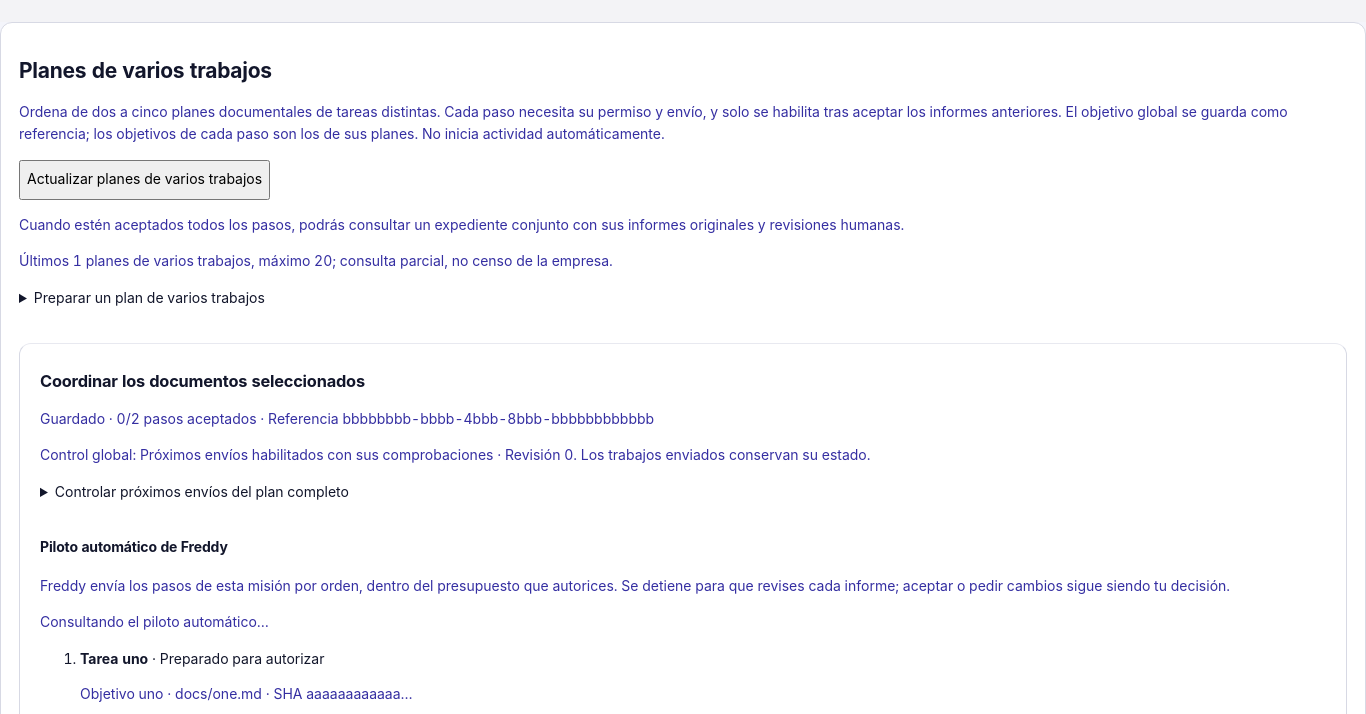
requires explicit global control consent and reads back the exact revision
The image size is (1366, 714).
Step 1. Click the heading "Controlar próximos envíos del plan completo" → (202, 491), box x1=55 y1=483 x2=349 y2=500
(page scrolled)
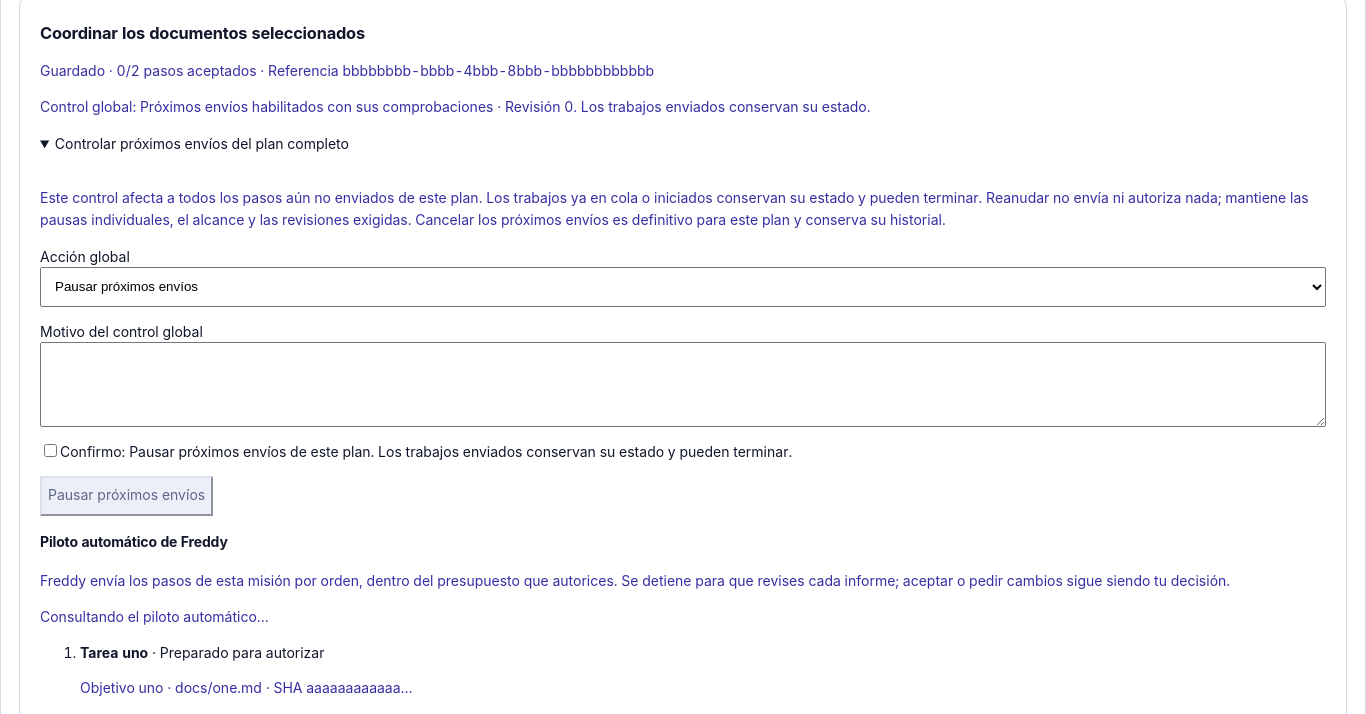
Result: the button "Pausar próximos envíos" is disabled at x1=40 y1=476 x2=213 y2=516
Step 2. Type "Pause future dispatches for review" into the text box labelled "Motivo del control global" → (683, 384), box x1=40 y1=342 x2=1326 y2=426
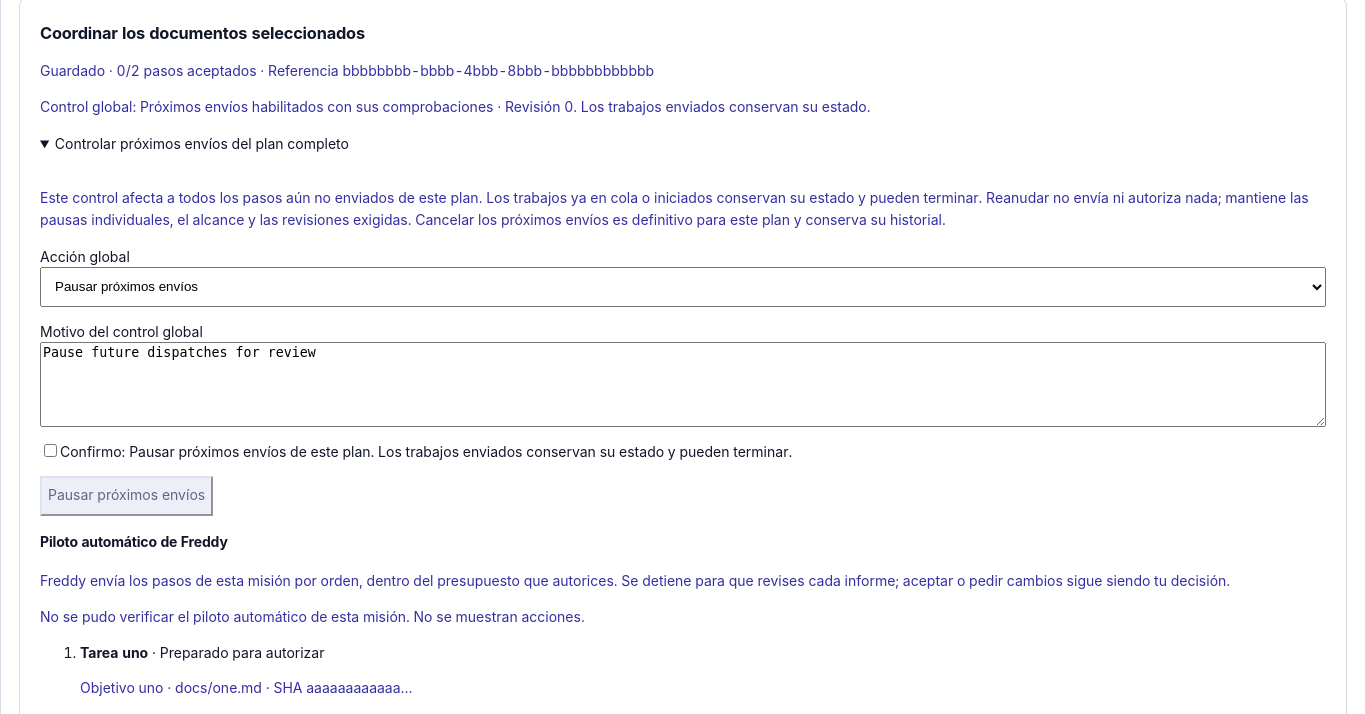
Step 3. Click the checkbox → (50, 450), box x1=44 y1=444 x2=57 y2=456
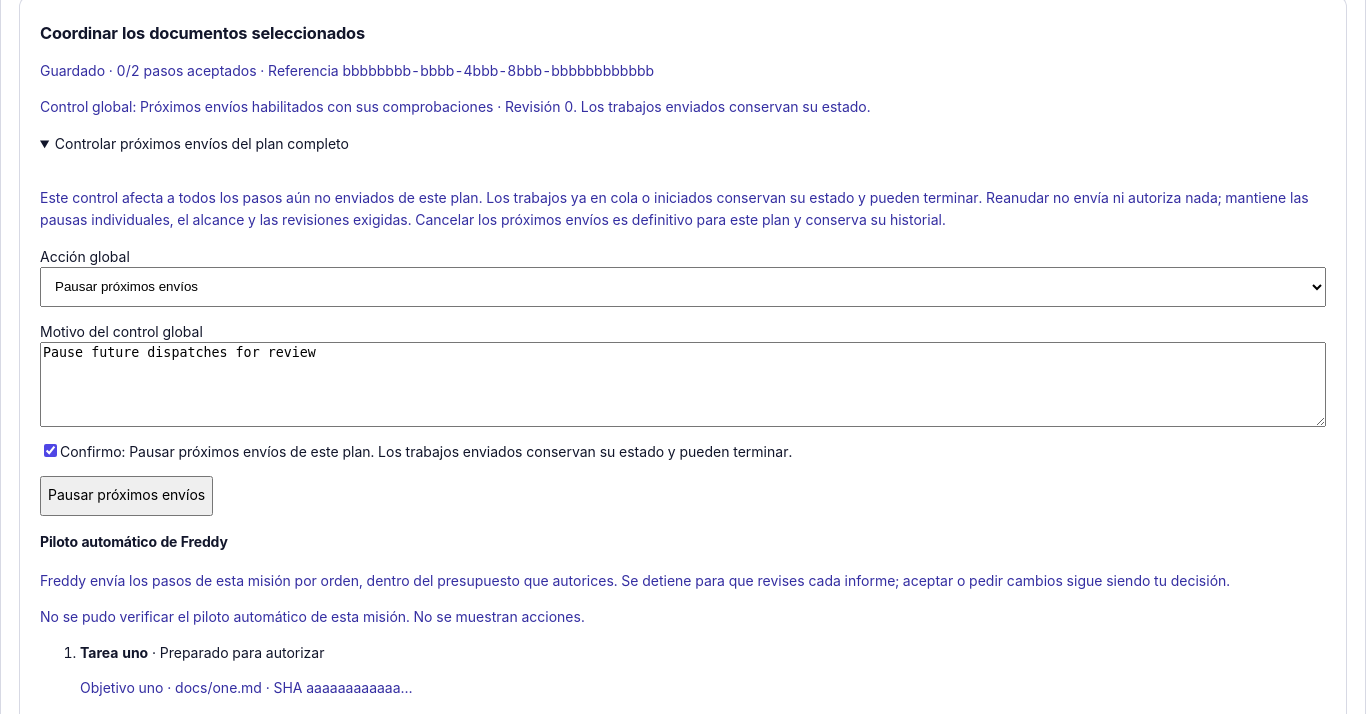
Step 4. Click the button "Pausar próximos envíos" → (127, 496), box x1=40 y1=476 x2=213 y2=516
(page scrolled)
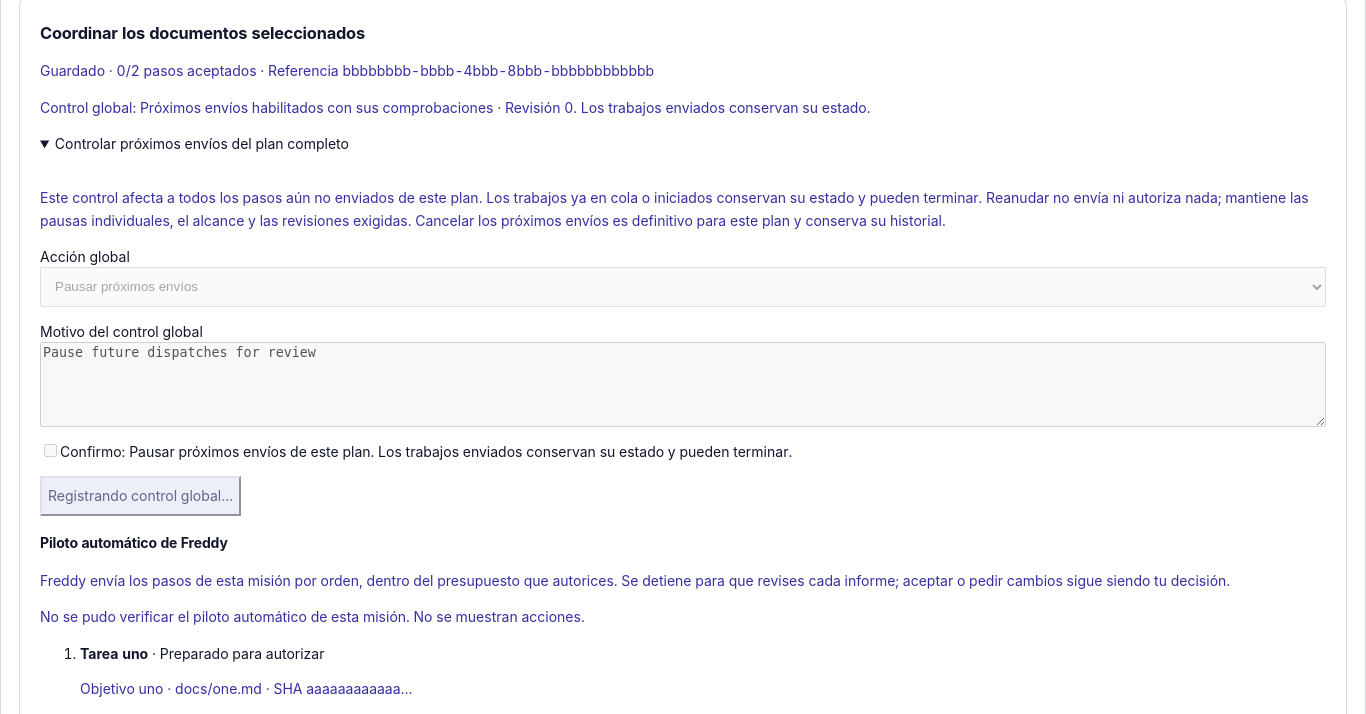
Step 5. Click the button named "Pausar próximos envíos" → (141, 496), box x1=40 y1=476 x2=241 y2=516
(page scrolled)
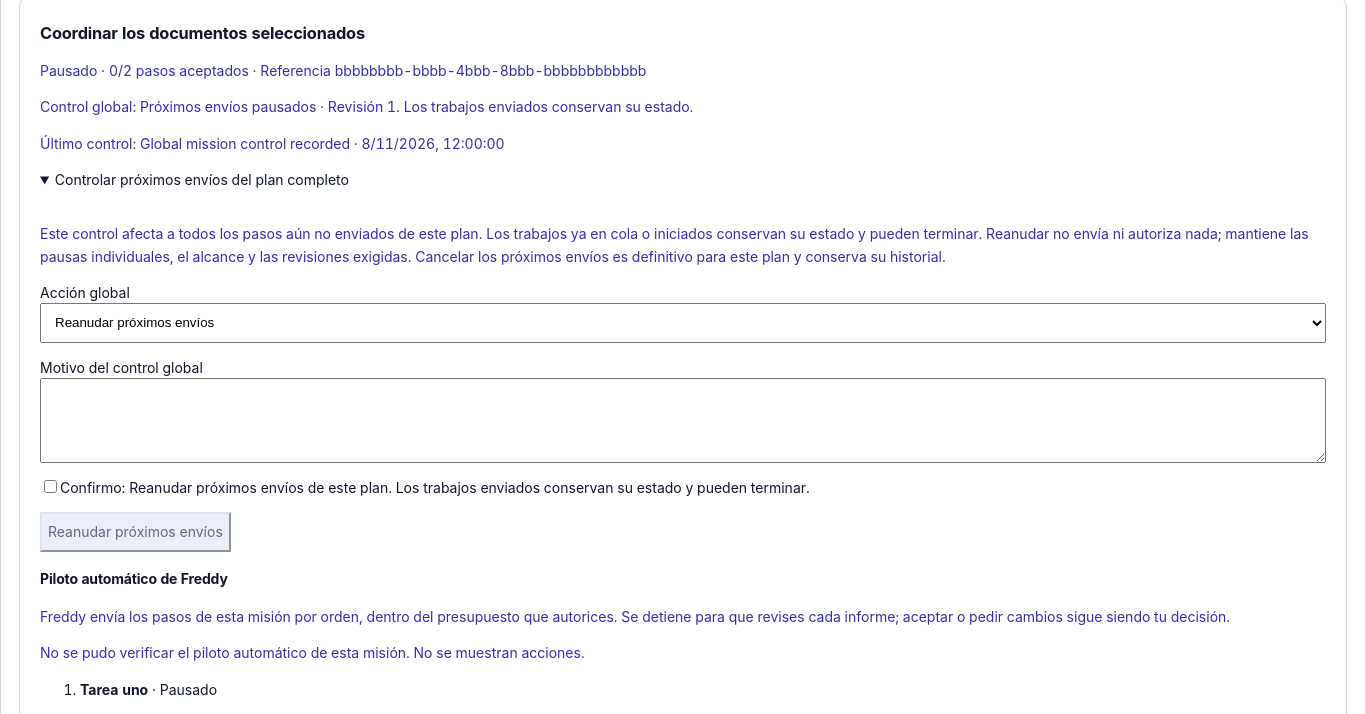
Expected: the button "Preparar paso 1" is not shown
Result: the text "Control global: Próximos envíos pausados" is shown at x1=40 y1=98 x2=693 y2=115
